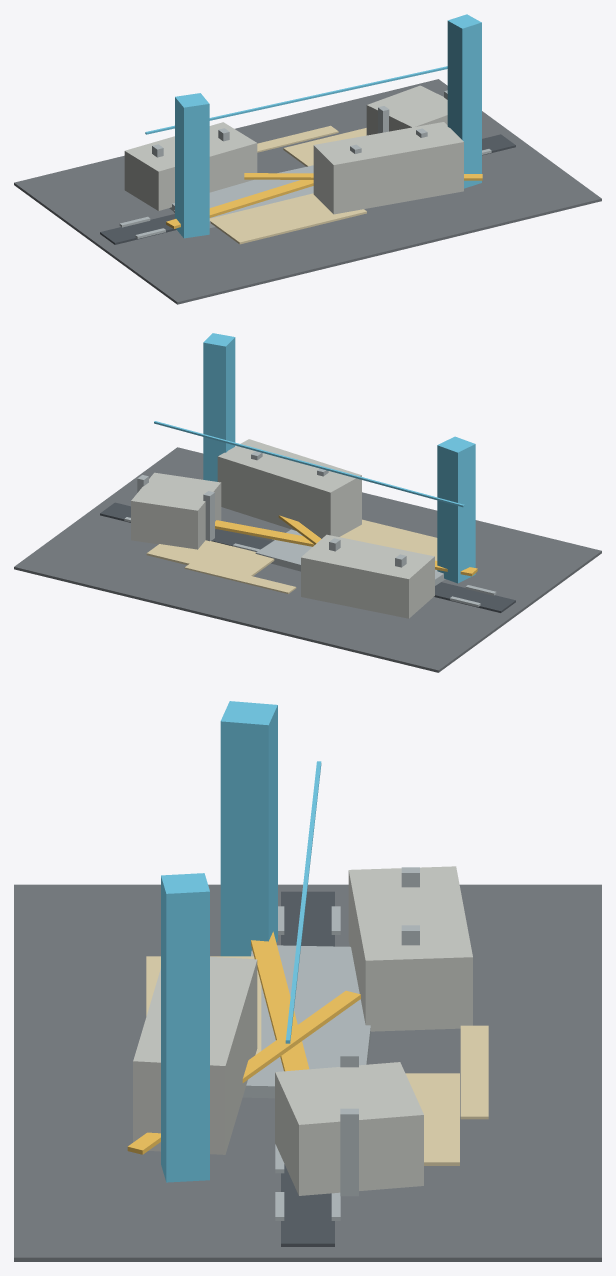
3 renders of one model, top to bottom at view 1: azimuth 30°, elevation 25°; view 2: azimuth 150°, elevation 25°; view 3: azimuth 270°, elevation 25°, orthographic. The views are drawn at different scales.
Visible parts, largest first — view 1: 01_site_context / metropolitan ground field, 03_structure / office bar over infrastructure, 03_structure / stacked commercial slab, 04_tower / metropolitan marker tower south, 04_tower / metropolitan marker tower north, 05_public_space / plaza hinge between city and station, 03_structure / congress and hotel block, 02_infrastructure / station deck over tracks, 02_infrastructure / TGV rail trench east-west, 06_circulation / bridge spine across rail field, 07_analysis / infrastructure-meets-city section trace, 05_public_space / lower interchange court (+2 smaller); view 2: 01_site_context / metropolitan ground field, 03_structure / office bar over infrastructure, 03_structure / stacked commercial slab, 03_structure / congress and hotel block, 04_tower / metropolitan marker tower north, 04_tower / metropolitan marker tower south, 05_public_space / lower interchange court, 02_infrastructure / TGV rail trench east-west, 05_public_space / plaza hinge between city and station, 02_infrastructure / station deck over tracks, 07_analysis / infrastructure-meets-city section trace, 06_circulation / bridge spine across rail field (+2 smaller); view 3: 01_site_context / metropolitan ground field, 03_structure / stacked commercial slab, 03_structure / congress and hotel block, 04_tower / metropolitan marker tower south, 04_tower / metropolitan marker tower north, 03_structure / office bar over infrastructure, 02_infrastructure / station deck over tracks, 02_infrastructure / TGV rail trench east-west, 05_public_space / lower interchange court, 06_circulation / bridge spine across rail field, 08_materials / mixed infrastructure surface sample, 06_circulation / diagonal metropolitan connector (+3 smaller).
Boxes of the visible parts, <box> form: 01_site_context / metropolitan ground field: <box>14,79,601,304</box>; 03_structure / office bar over infrastructure: <box>313,122,463,214</box>; 03_structure / stacked commercial slab: <box>124,122,257,210</box>; 04_tower / metropolitan marker tower south: <box>447,14,481,188</box>; 04_tower / metropolitan marker tower north: <box>175,93,209,238</box>; 05_public_space / plaza hinge between city and station: <box>209,193,366,244</box>; 03_structure / congress and hotel block: <box>366,85,447,135</box>; 02_infrastructure / station deck over tracks: <box>169,165,313,227</box>; 02_infrastructure / TGV rail trench east-west: <box>100,134,515,244</box>; 06_circulation / bridge spine across rail field: <box>166,180,313,228</box>; 07_analysis / infrastructure-meets-city section trace: <box>145,66,447,134</box>; 05_public_space / lower interchange court: <box>283,128,366,166</box>; 01_site_context / metropolitan ground field: <box>14,447,601,672</box>; 03_structure / office bar over infrastructure: <box>217,439,361,538</box>; 03_structure / stacked commercial slab: <box>301,534,434,618</box>; 03_structure / congress and hotel block: <box>131,472,221,549</box>; 04_tower / metropolitan marker tower north: <box>437,436,475,583</box>; 04_tower / metropolitan marker tower south: <box>203,333,235,481</box>; 05_public_space / lower interchange court: <box>146,540,274,576</box>; 02_infrastructure / TGV rail trench east-west: <box>100,502,515,612</box>; 05_public_space / plaza hinge between city and station: <box>339,519,437,560</box>; 02_infrastructure / station deck over tracks: <box>255,529,445,585</box>; 07_analysis / infrastructure-meets-city section trace: <box>154,421,464,507</box>; 06_circulation / bridge spine across rail field: <box>215,520,477,576</box>; 01_site_context / metropolitan ground field: <box>14,884,601,1261</box>; 03_structure / stacked commercial slab: <box>348,866,472,1031</box>; 03_structure / congress and hotel block: <box>275,1062,423,1195</box>; 04_tower / metropolitan marker tower south: <box>161,873,209,1182</box>; 04_tower / metropolitan marker tower north: <box>220,701,277,956</box>; 03_structure / office bar over infrastructure: <box>133,956,257,1154</box>; 02_infrastructure / station deck over tracks: <box>242,945,371,1098</box>; 02_infrastructure / TGV rail trench east-west: <box>281,891,334,1246</box>; 05_public_space / lower interchange court: <box>405,1073,459,1165</box>; 06_circulation / bridge spine across rail field: <box>251,931,309,1071</box>; 08_materials / mixed infrastructure surface sample: <box>460,1025,488,1119</box>; 06_circulation / diagonal metropolitan connector: <box>127,990,360,1154</box>.
Size of the model in its own units: 36 by 13.5 by 24.
